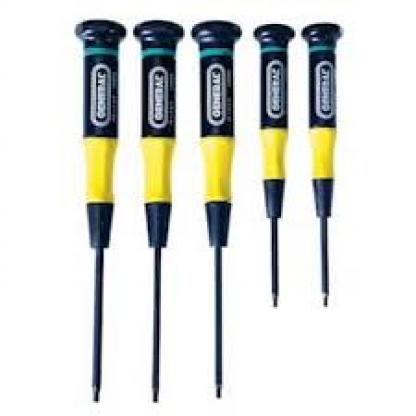Screw Driver: (70, 15, 132, 404), (127, 15, 188, 407), (188, 16, 246, 402), (298, 17, 349, 313), (250, 17, 300, 316)
